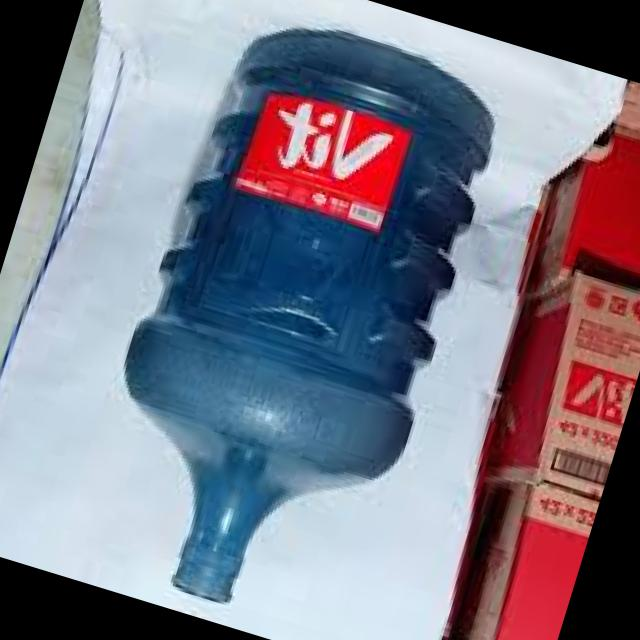Galon: (57, 0, 517, 640)
